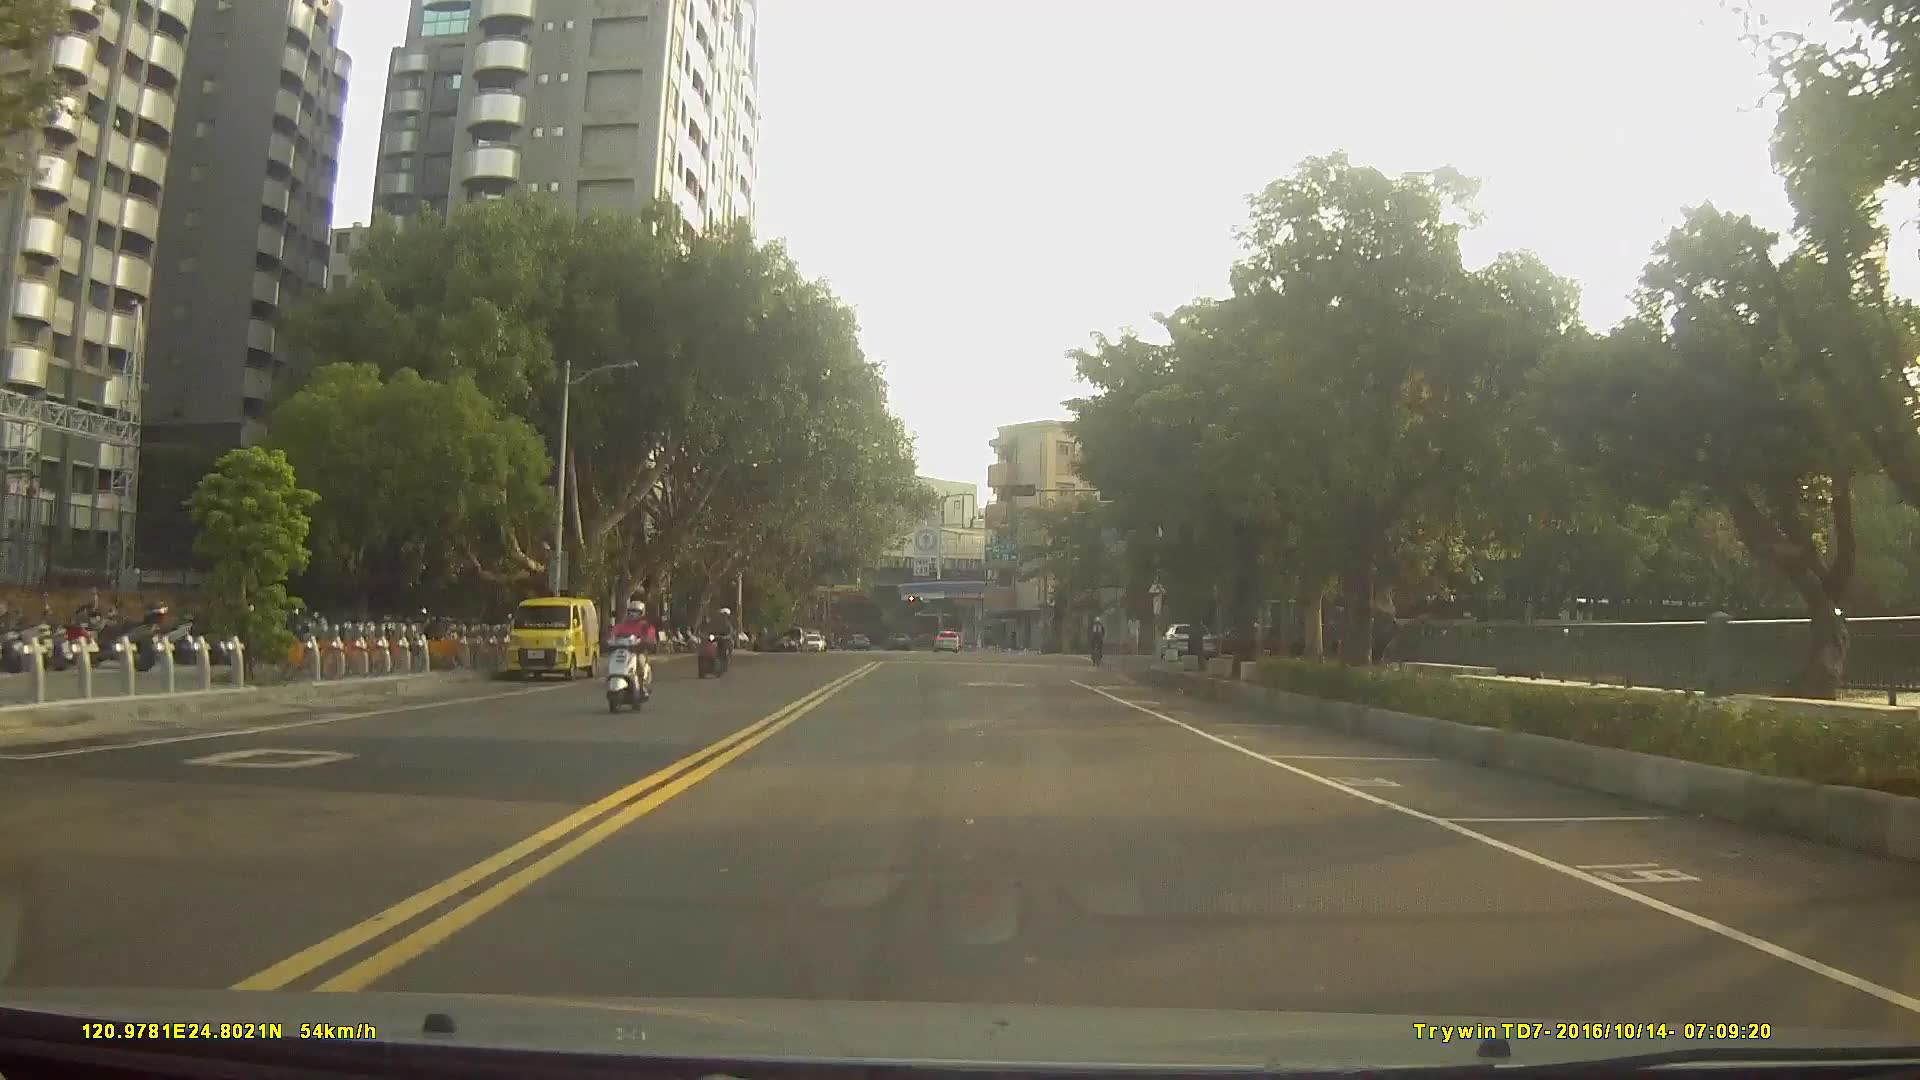pedestrian: (1123, 612, 1143, 657)
rider: (600, 601, 662, 712), (694, 606, 735, 678), (1087, 619, 1108, 673)
vehicle: (934, 629, 960, 652)
